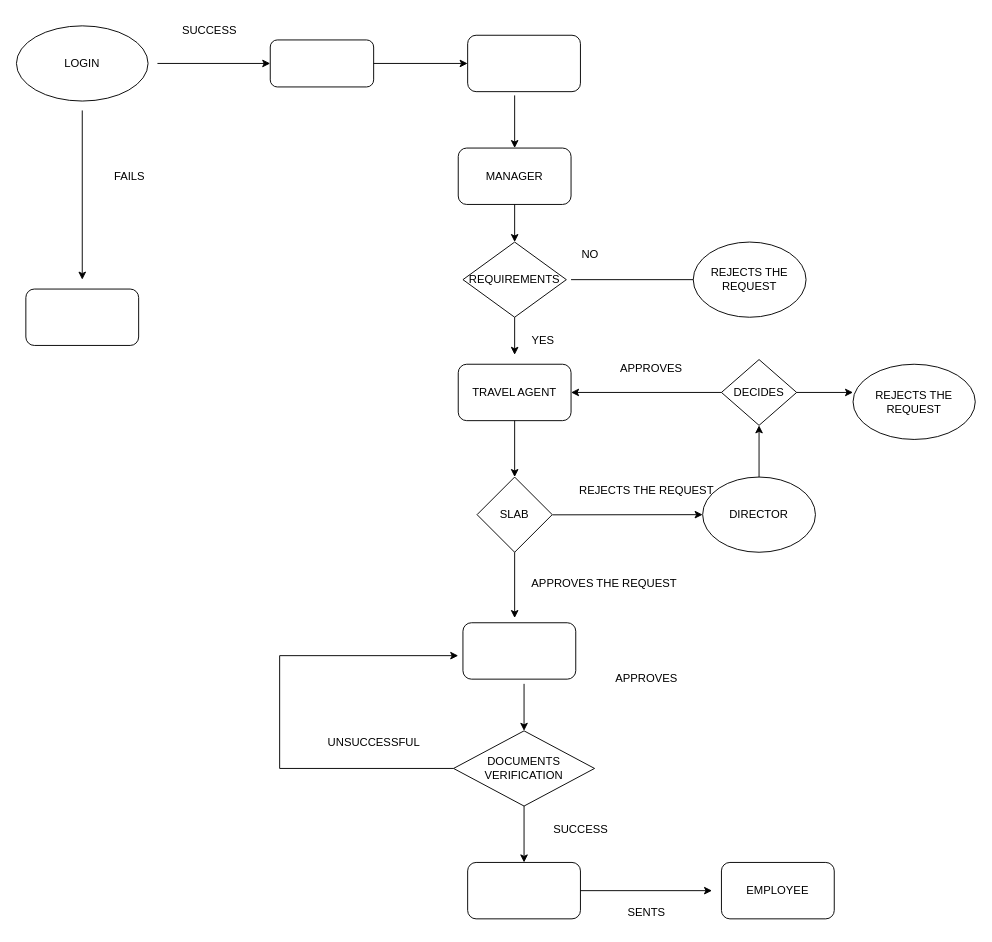
Some shapes in this 992 by 942 pixel diagram are drawn without their labels. Here are the shapes that lost their labels. From the top down, the centre of each, then its label:
point (321, 63): HOME PAGE
point (523, 63): SEND A REQUEST
point (82, 316): LOGIN AGAIN
point (519, 650): ASK FOR DOCUMENTS
point (523, 890): BOOKING DEATILS
